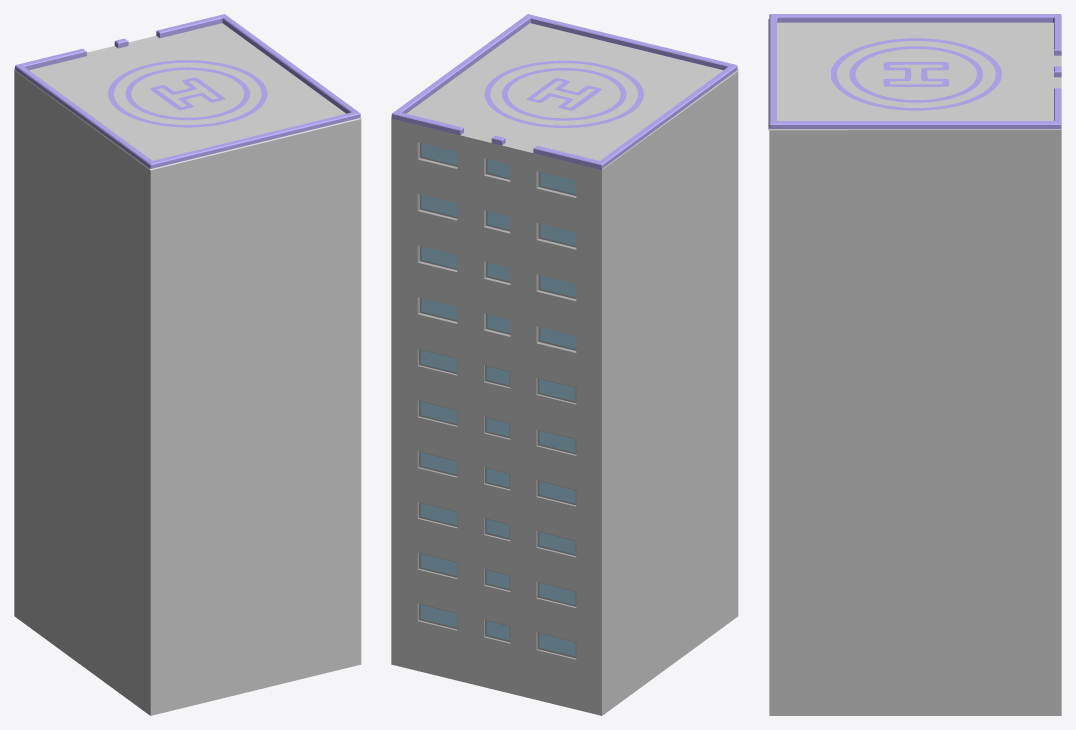
File: AR_Platform_Finish.fbx
3 renders of one model, left to right at view 1: azimuth 30°, elevation 25°; view 2: azimuth 150°, elevation 25°; view 3: azimuth 270°, elevation 25°, orthographic. The views are drawn at different scales.
Visible parts, largest first — view 1: AR_Final_Plane_Building, AR_Final_Plane, AR_Final_Ground_Helicopter; view 2: AR_Final_Plane_Building, AR_Final_Plane, AR_Final_Ground_Helicopter; view 3: AR_Final_Plane_Building, AR_Final_Plane, AR_Final_Ground_Helicopter.
Part boxes in pixels (<box>): AR_Final_Plane_Building: <box>14,70,361,715</box>; AR_Final_Plane: <box>14,14,361,170</box>; AR_Final_Ground_Helicopter: <box>108,60,267,127</box>; AR_Final_Plane_Building: <box>391,71,738,715</box>; AR_Final_Plane: <box>391,14,739,169</box>; AR_Final_Ground_Helicopter: <box>484,60,643,127</box>; AR_Final_Plane_Building: <box>769,130,1061,715</box>; AR_Final_Plane: <box>768,14,1061,130</box>; AR_Final_Ground_Helicopter: <box>831,38,1001,110</box>.
Bounding box in the file's own units: 2036 × 5050 × 2268.
